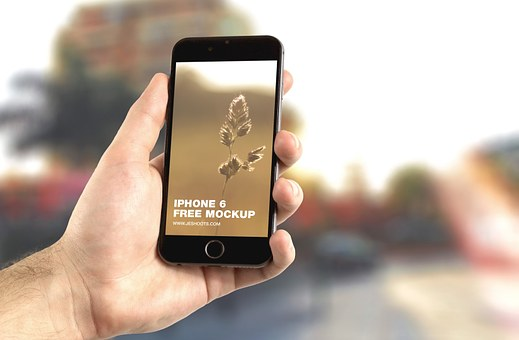mobile: (165, 33, 278, 278)
